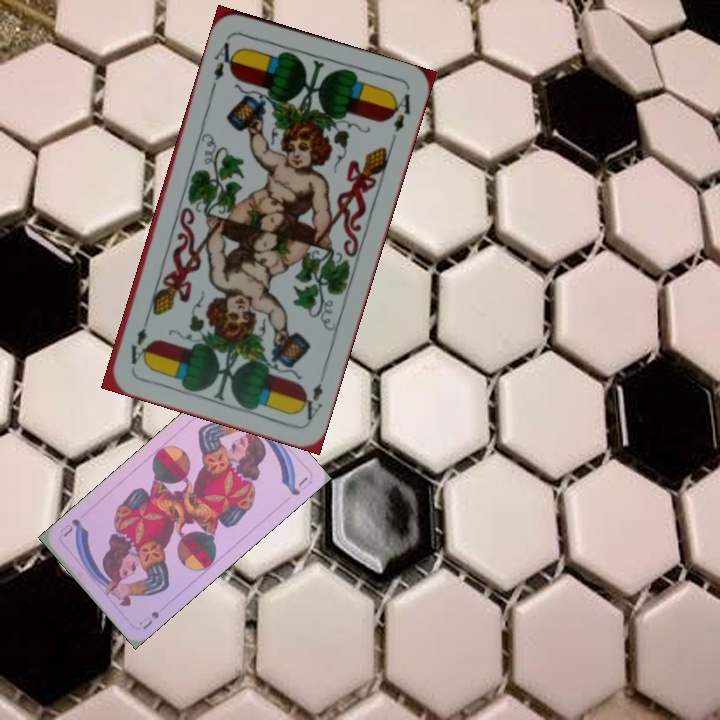EA: (207, 33, 240, 92), (295, 379, 326, 423)
SU: (135, 607, 162, 633)
